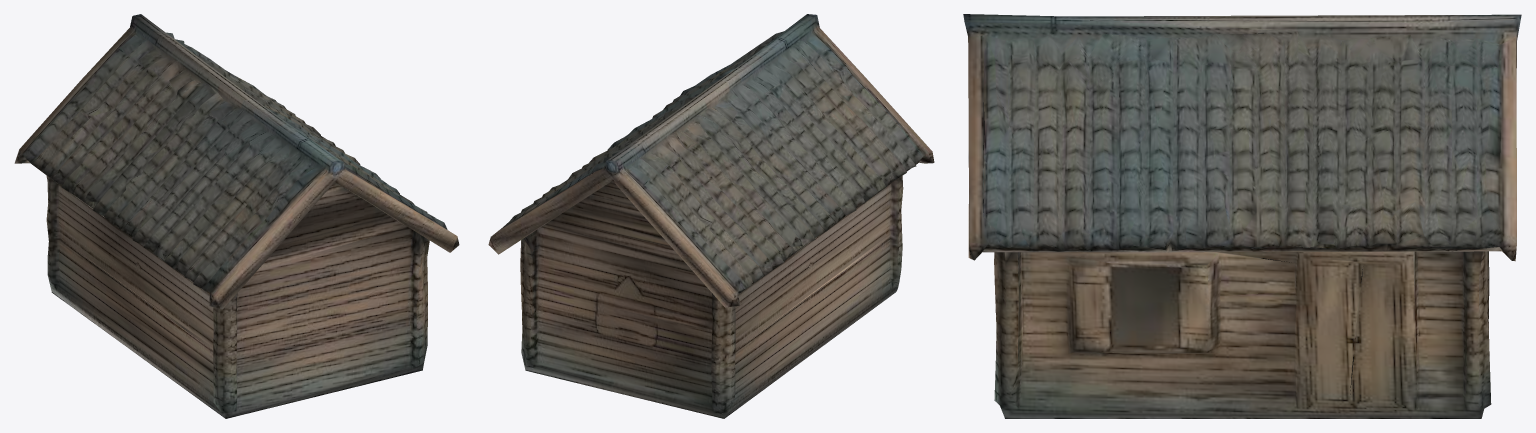
The model's file is demo_cottage_shanhai.glb.
3 renders of one model, left to right at view 1: azimuth 30°, elevation 25°; view 2: azimuth 150°, elevation 25°; view 3: azimuth 270°, elevation 25°, orthographic. The views are drawn at different scales.
Parts seen in each view (by area): view 1: tripo_node_44d0d3bd-5882-4473-b4b0-b600bcbcedbf.001; view 2: tripo_node_44d0d3bd-5882-4473-b4b0-b600bcbcedbf.001; view 3: tripo_node_44d0d3bd-5882-4473-b4b0-b600bcbcedbf.001.
Boxes of the visible parts, x1,y1,x2,y2 form: tripo_node_44d0d3bd-5882-4473-b4b0-b600bcbcedbf.001: (14, 14, 459, 418); tripo_node_44d0d3bd-5882-4473-b4b0-b600bcbcedbf.001: (488, 14, 934, 418); tripo_node_44d0d3bd-5882-4473-b4b0-b600bcbcedbf.001: (963, 14, 1521, 418).
Bounding box in the file's own units: 0.7166 × 0.6636 × 1.
Materials: 1 (1 with a texture image).
